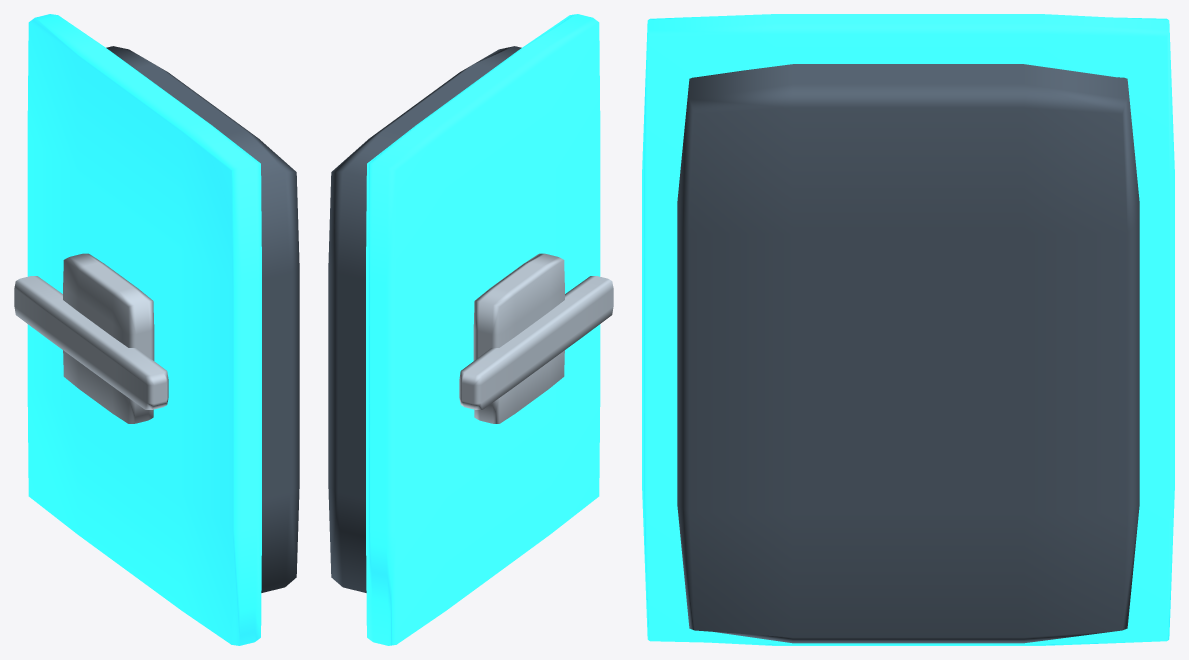
Rendered from shield-sentinel.glb.
The picture shows the model from 3 angles, left to right: view 1: azimuth 30°, elevation 25°; view 2: azimuth 150°, elevation 25°; view 3: azimuth 270°, elevation 25°; orthographic projection. The views are drawn at different scales.
Visible parts, largest first — view 1: ShieldFrame, ShieldCore, Center, Bar; view 2: ShieldFrame, ShieldCore, Center, Bar; view 3: ShieldCore, ShieldFrame.
Part boxes in pixels (left/top/right/bottom): ShieldFrame: left=27, top=14, right=261, bottom=645; ShieldCore: left=106, top=46, right=299, bottom=592; Center: left=63, top=253, right=154, bottom=423; Bar: left=14, top=276, right=168, bottom=409; ShieldFrame: left=366, top=14, right=600, bottom=645; ShieldCore: left=328, top=46, right=521, bottom=592; Center: left=473, top=253, right=564, bottom=423; Bar: left=459, top=276, right=613, bottom=409; ShieldCore: left=677, top=64, right=1139, bottom=643; ShieldFrame: left=642, top=14, right=1174, bottom=645.
Size of the model in its own units: 0.71 by 2.45 by 1.9.
